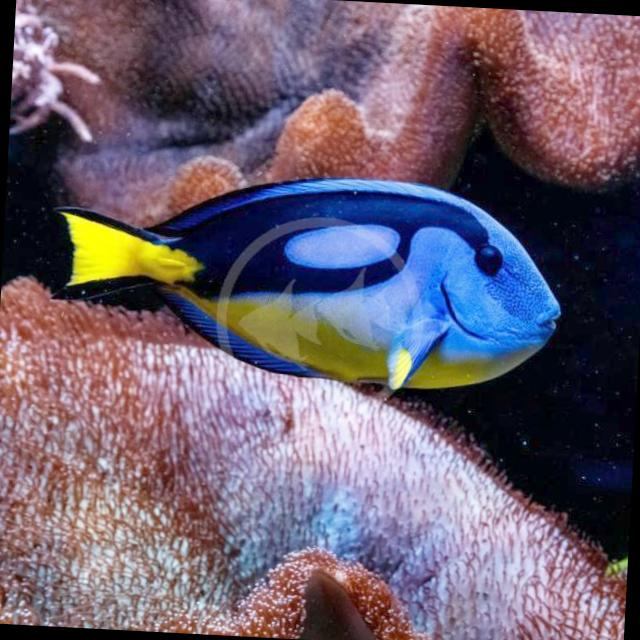TangFish: (57, 162, 568, 404)
